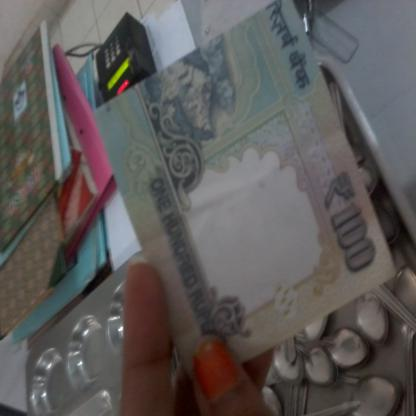Old100Back: (90, 0, 398, 383)
